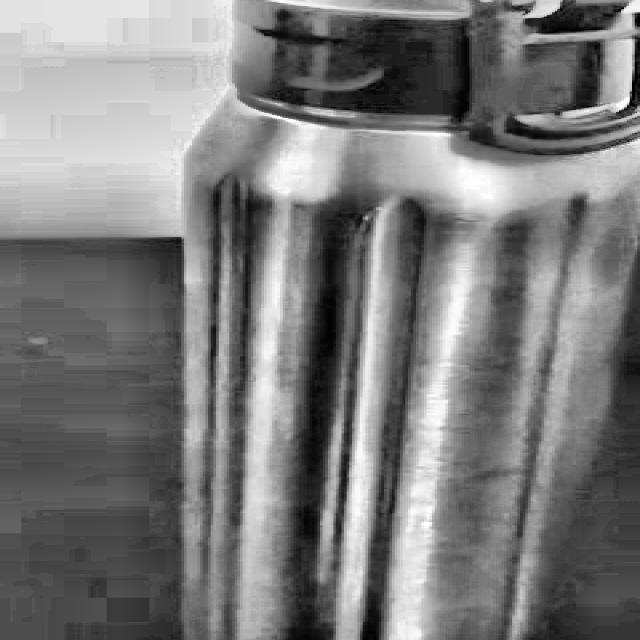bottle: (175, 0, 640, 640), (175, 0, 640, 640)
